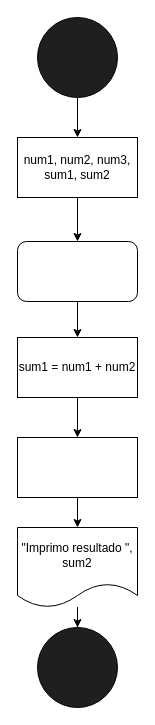
The diagram is 155 pixels wide and 725 high, and some of its shapes have lost their labels. The centre of each missing label's shape, as x and y in pixels:
Ingreso num1, num2, num3: point 77,271
sum2 = sum1 + num3: point 77,467
